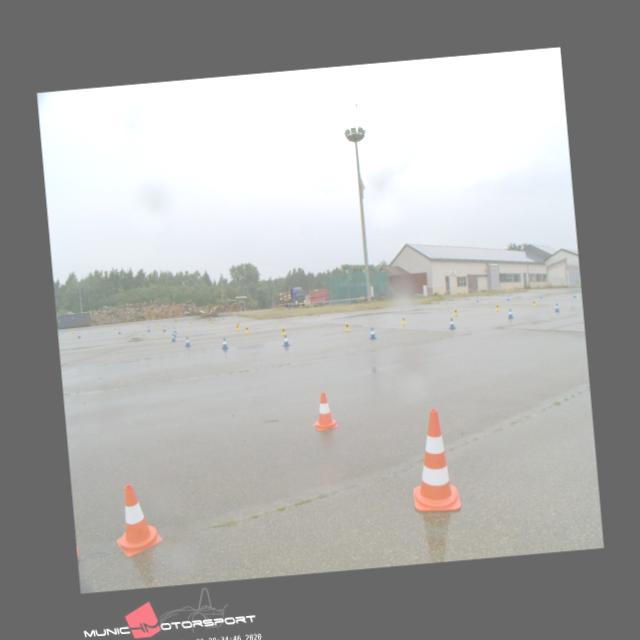blue_cone: (281, 334, 290, 346), (220, 336, 228, 348), (368, 326, 376, 338), (447, 317, 455, 328), (183, 336, 190, 346), (507, 308, 513, 318), (554, 303, 560, 312), (170, 334, 176, 342)
large_orange_cone: (405, 406, 460, 512)
orange_cone: (111, 481, 162, 556), (310, 391, 338, 430)
yellow_cone: (244, 324, 250, 333), (280, 325, 286, 334), (344, 321, 350, 330), (400, 315, 406, 324), (452, 306, 458, 314), (531, 298, 536, 306), (495, 302, 499, 310), (234, 323, 238, 330)
